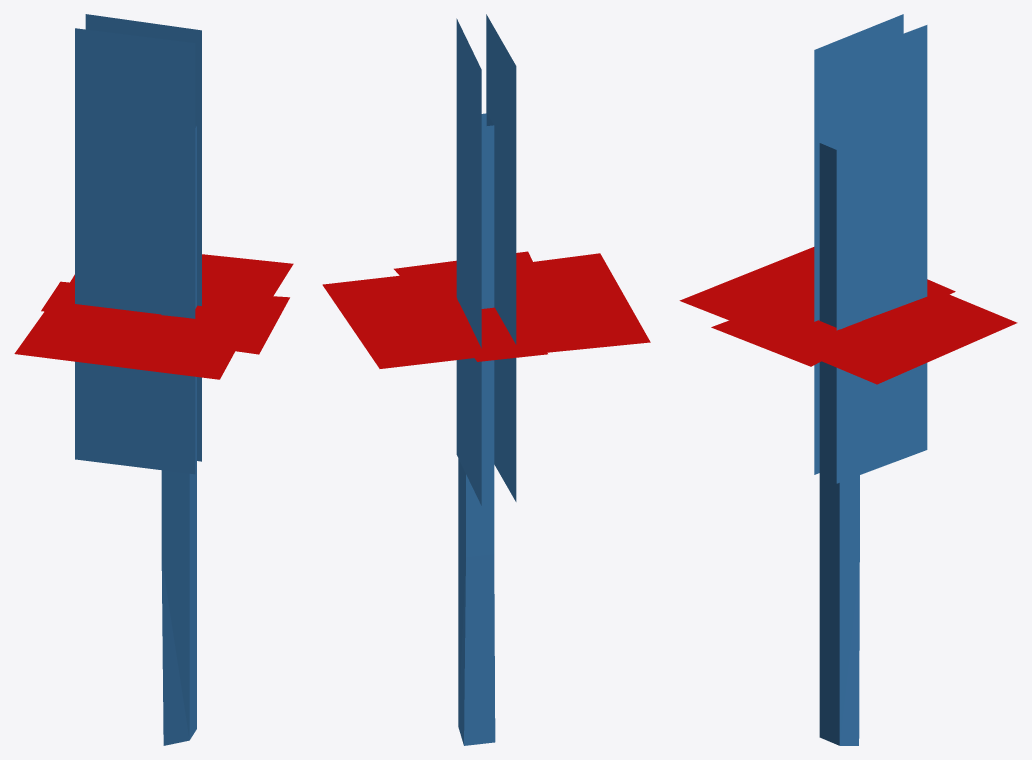
Rendered from STG0100_COLI_17.OBJ.
3 renders of one model, left to right at view 1: azimuth 30°, elevation 25°; view 2: azimuth 150°, elevation 25°; view 3: azimuth 270°, elevation 25°, orthographic. The views are drawn at different scales.
Parts seen in each view (by area): view 1: STG0100_COLI_17_10000000, STG0100_COLI_17_20000000; view 2: STG0100_COLI_17_10000000, STG0100_COLI_17_20000000; view 3: STG0100_COLI_17_10000000, STG0100_COLI_17_20000000.
Boxes of the visible parts, <box> form: STG0100_COLI_17_10000000: <box>75,14,201,745</box>; STG0100_COLI_17_20000000: <box>14,254,293,379</box>; STG0100_COLI_17_10000000: <box>456,14,516,745</box>; STG0100_COLI_17_20000000: <box>322,251,650,368</box>; STG0100_COLI_17_10000000: <box>814,14,927,745</box>; STG0100_COLI_17_20000000: <box>679,247,1017,384</box>.
Size of the model in its own units: 1811 by 4045 by 1783.
